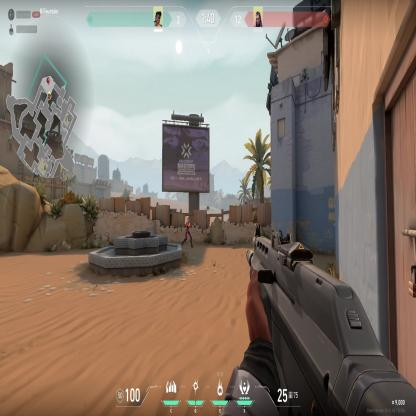enemy: (181, 216, 194, 248)
